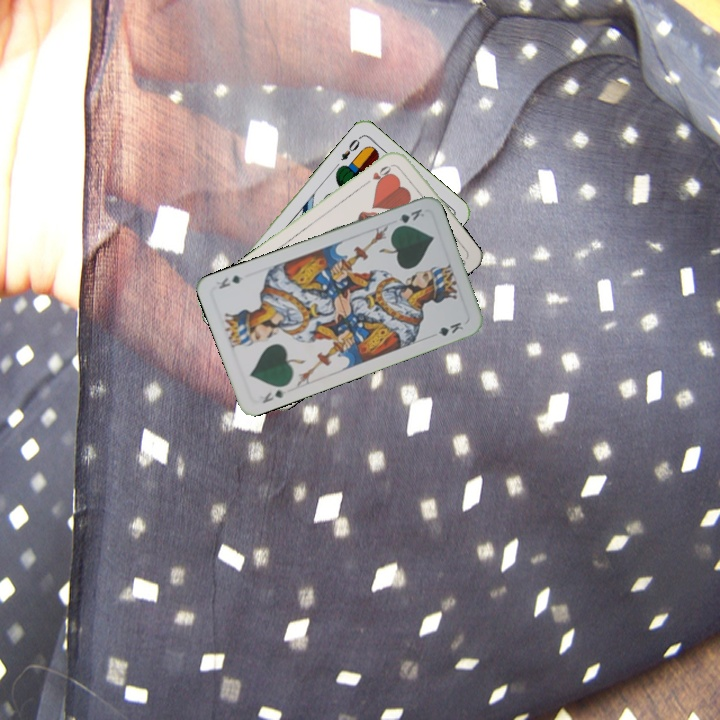EO: (337, 132, 364, 163)
GK: (390, 205, 427, 231), (258, 386, 289, 406)
HO: (360, 160, 396, 188)
